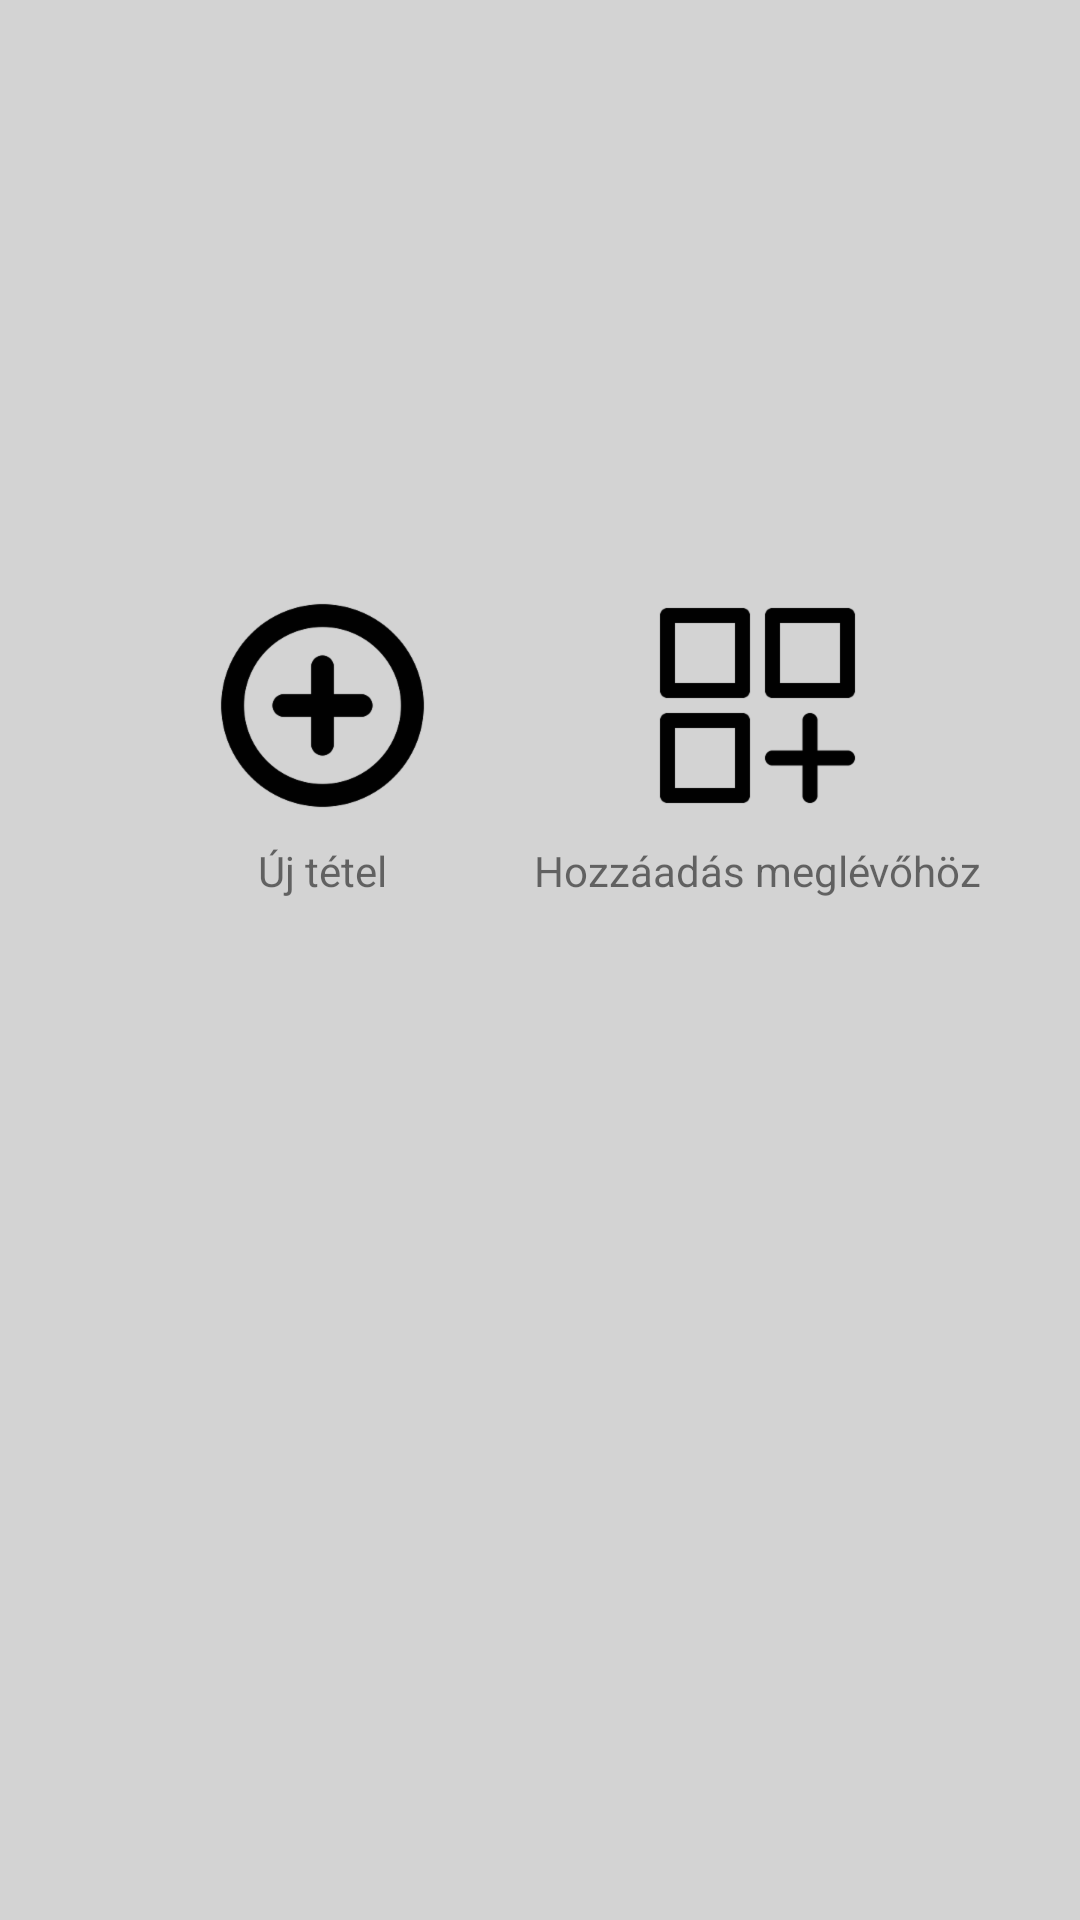

Locate icon controls on the screen. Image size 1080x1920, boxes as (x1=x1, y1=y1, x2=x2, y2=y2).
create: (x1=221, y1=604, x2=424, y2=807)
